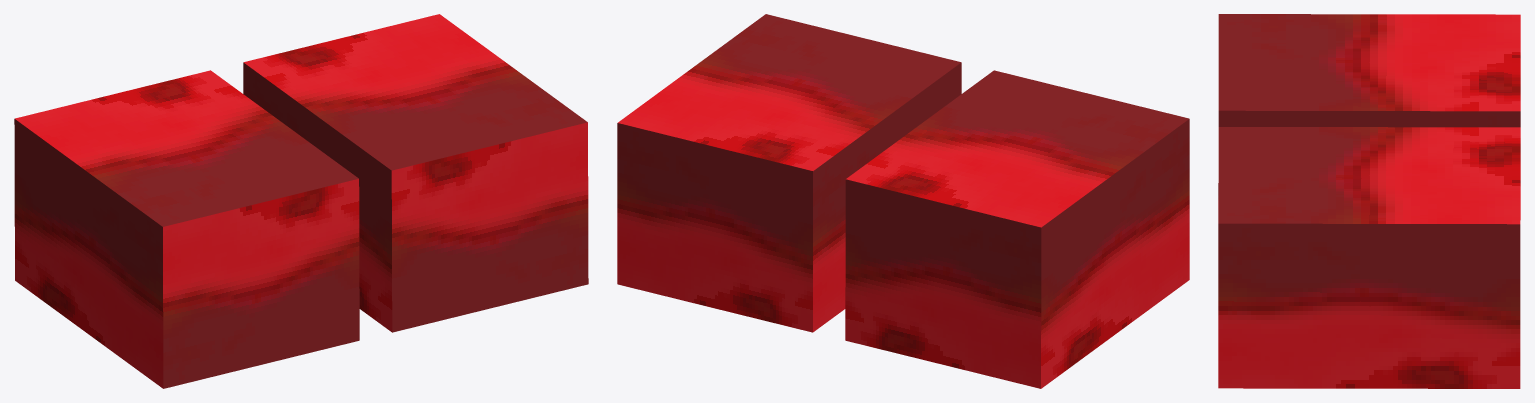
Rendered from boostershoes.fbx.
3 views of the same model, side by side, from view 1: azimuth 30°, elevation 25°; view 2: azimuth 150°, elevation 25°; view 3: azimuth 270°, elevation 25° (orthographic).
Visible parts, largest first — view 1: boostershoes; view 2: boostershoes; view 3: boostershoes.
Part boxes in pixels (box(x1,y1,x2,y2)): boostershoes: box(14, 14, 588, 388); boostershoes: box(617, 14, 1189, 388); boostershoes: box(1218, 14, 1520, 388).
Bounding box in the file's own units: 160 × 58.59 × 96.7.
